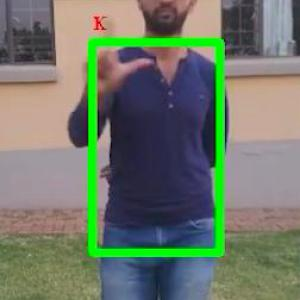land_hand: (75, 8, 155, 94)
